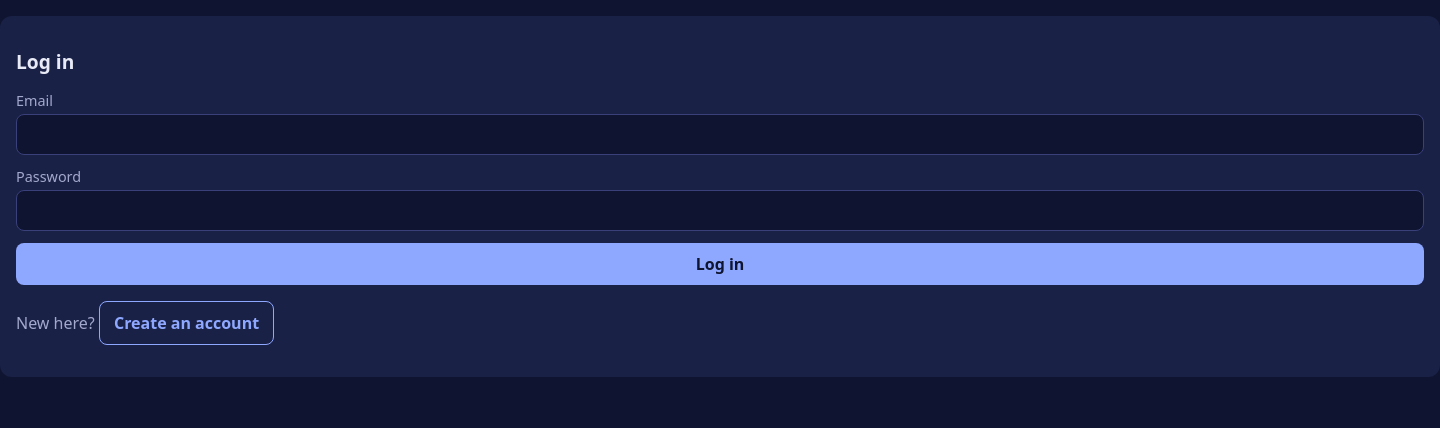
AuthForm › shows the server error on bad credentials
Type "dana@example.com" into the field labelled "Email" at [720, 134], box top-left (16, 114), bottom-right (1424, 155)
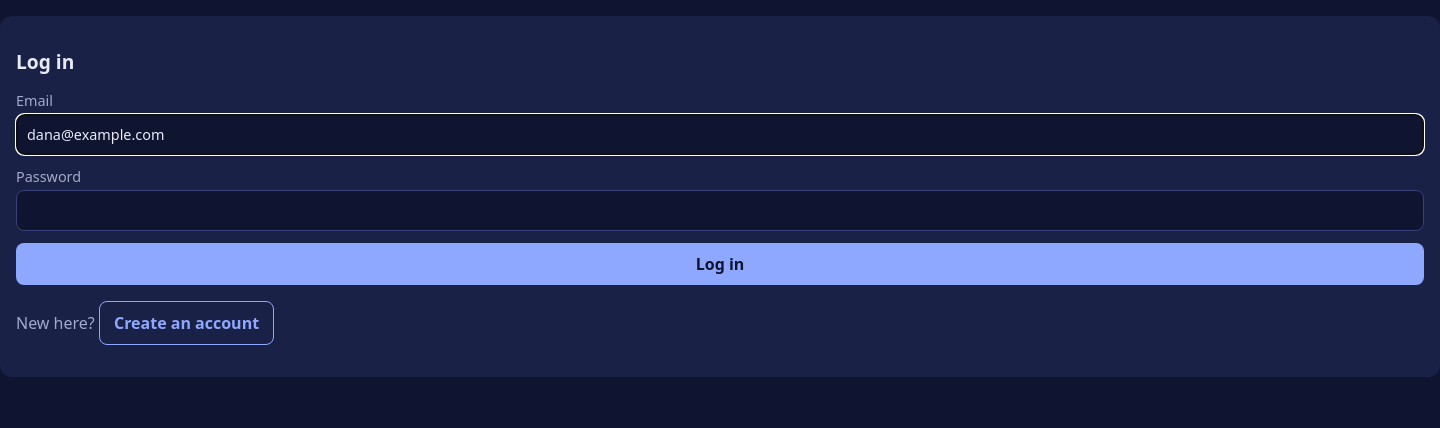
Type "wrong" into the password field labelled "Password" at [720, 210], box top-left (16, 190), bottom-right (1424, 231)
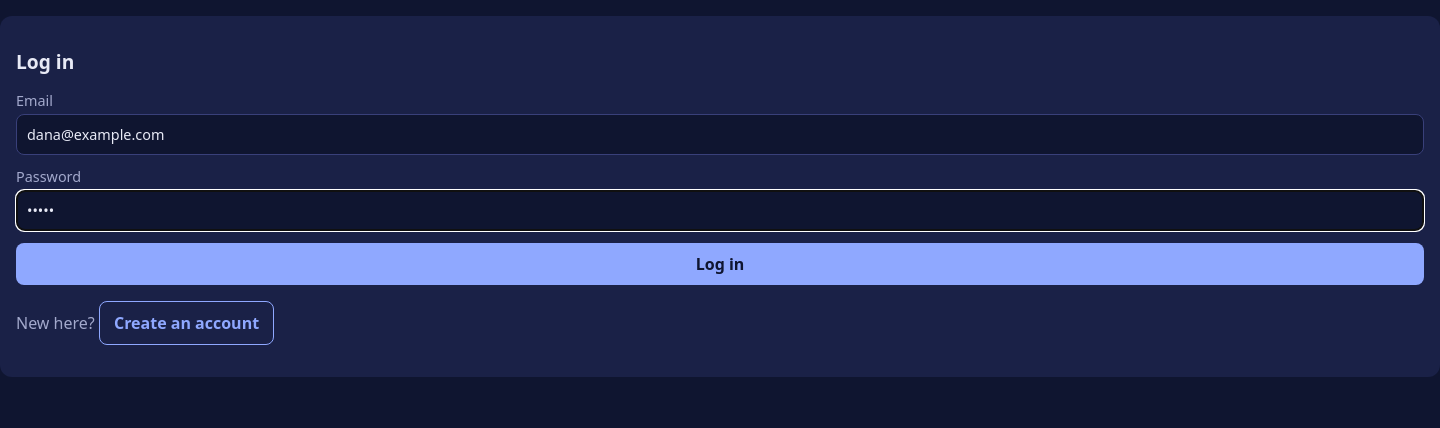
Click the button "Log in" at [720, 264], box top-left (16, 243), bottom-right (1424, 285)
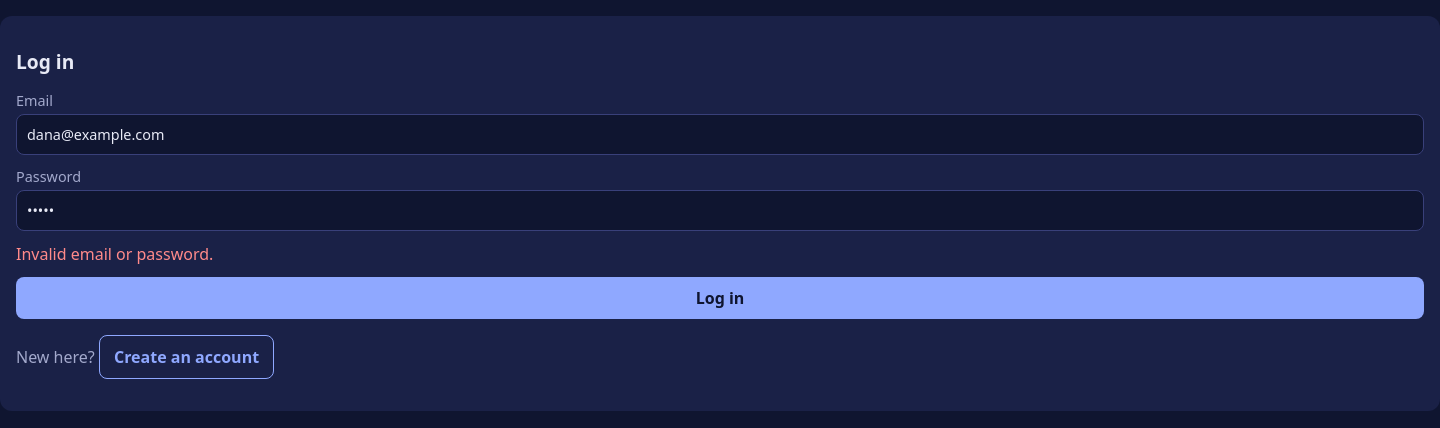
Expected: the message reads "Invalid email or password.", top-left (16, 243), bottom-right (213, 265)
